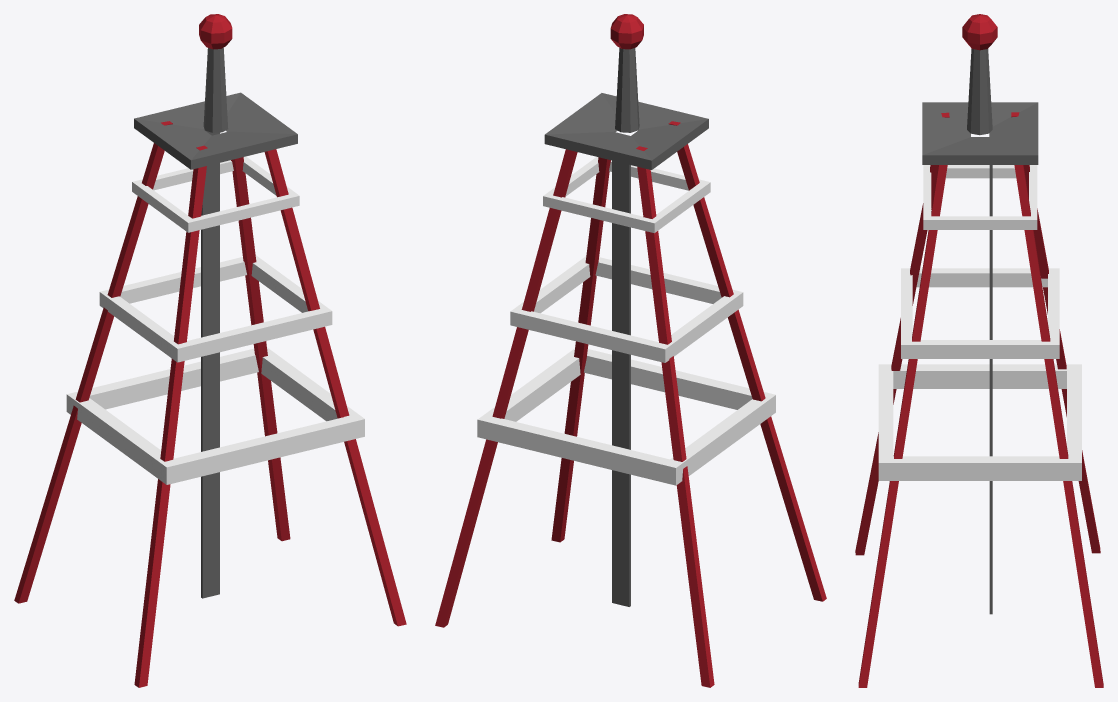
File: 5.TV tower.fbx
The picture shows the model from 3 angles, left to right: view 1: azimuth 30°, elevation 25°; view 2: azimuth 150°, elevation 25°; view 3: azimuth 270°, elevation 25°; orthographic projection.
Parts seen in each view (by area): view 1: Sphere; view 2: Sphere; view 3: Sphere.
Part boxes in pixels (x1,y1,x2,y2): Sphere: (14,14,406,687); Sphere: (435,14,826,687); Sphere: (855,14,1103,687).
Size of the model in its own units: 1735 by 3621 by 1341.
